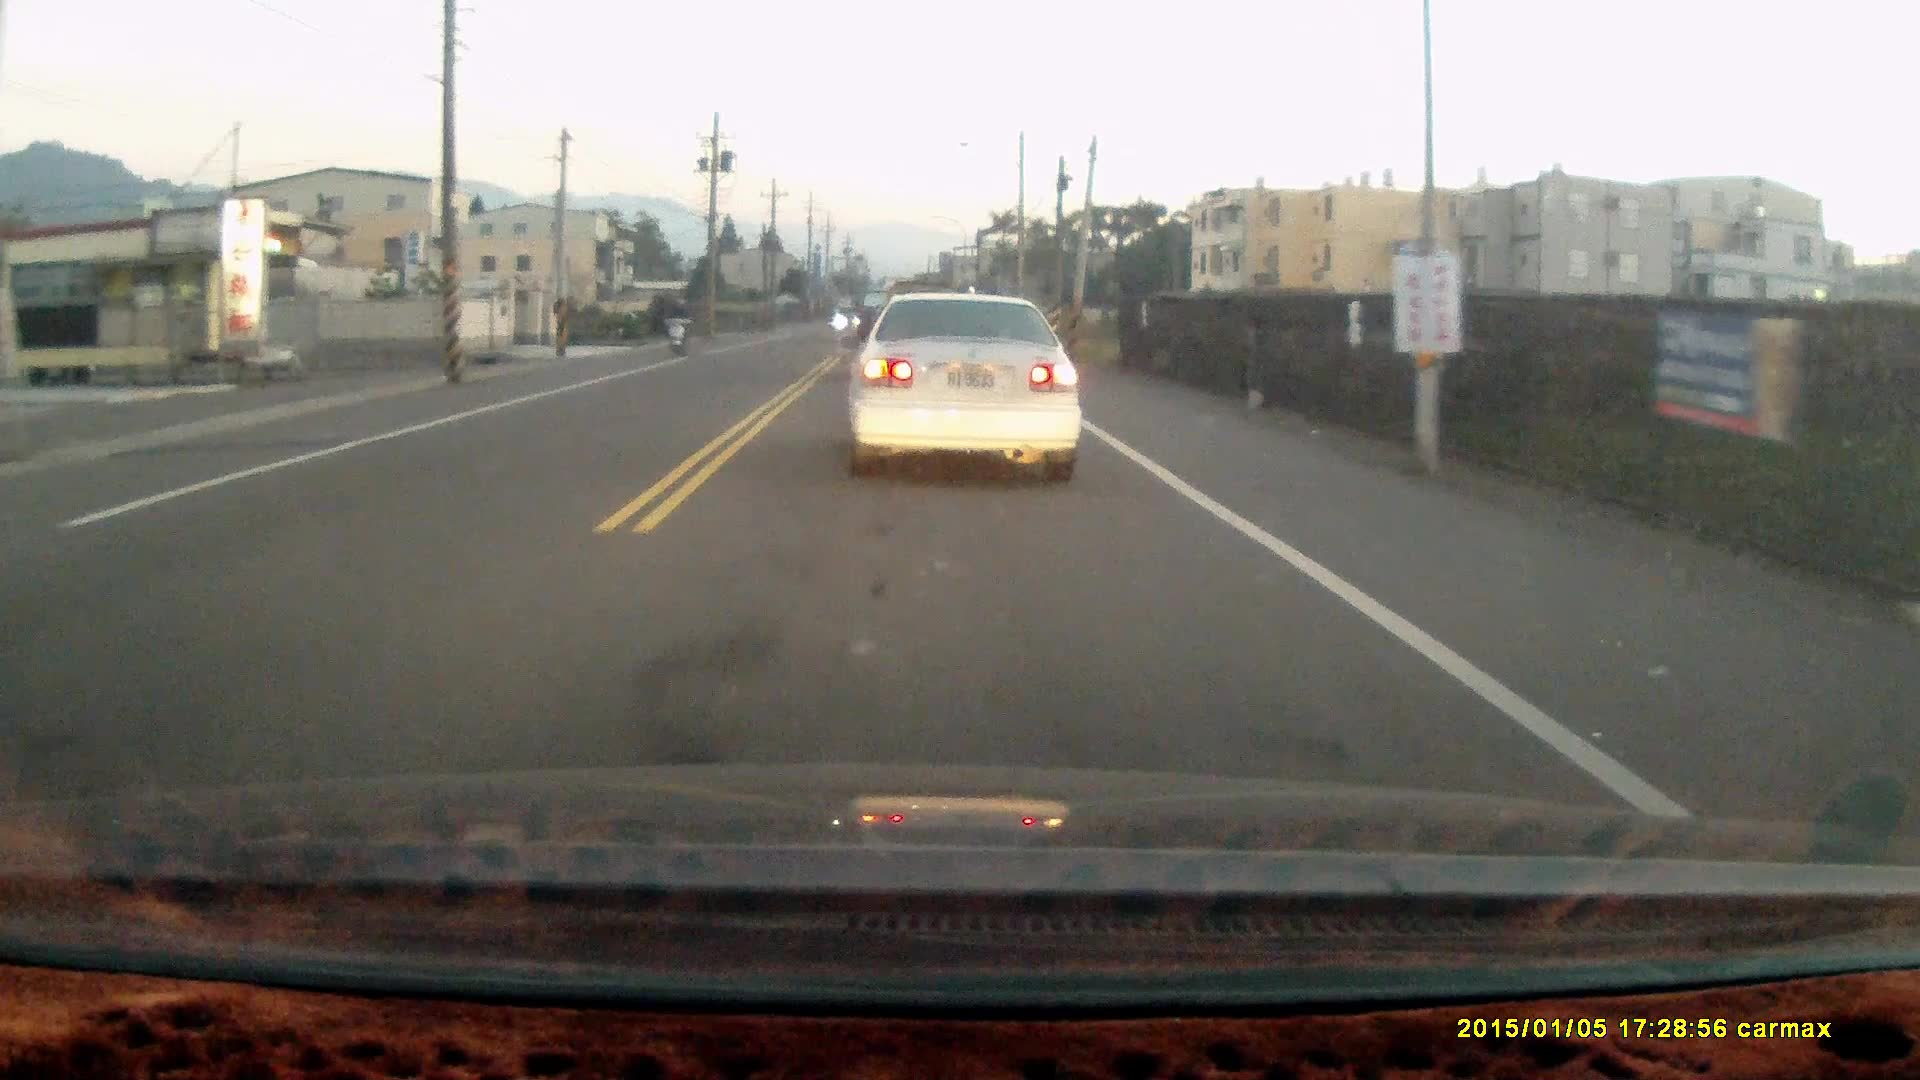rider: (663, 292, 692, 355)
vehicle: (846, 286, 1087, 486)
